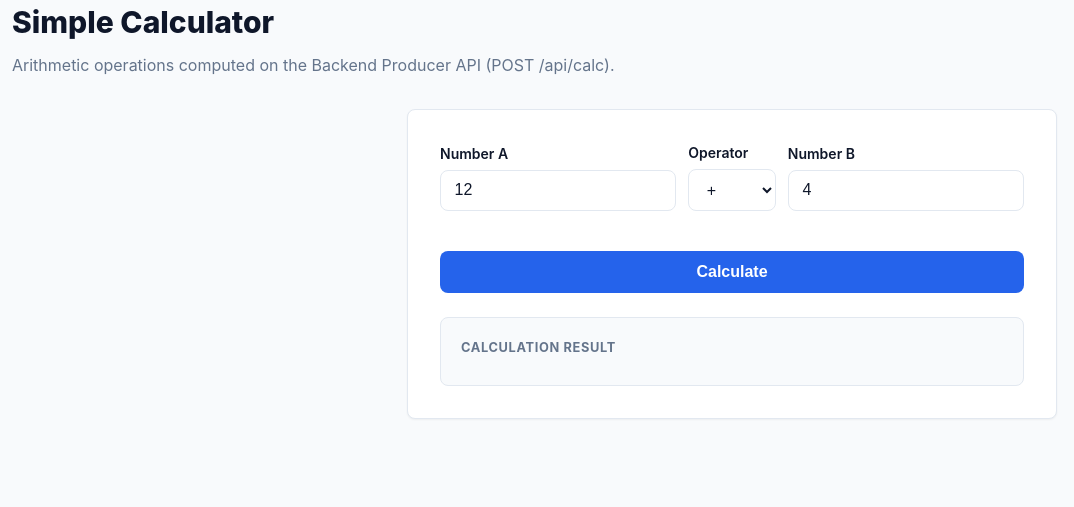
Test case: CalcPage › displays error when inputs are invalid numbers
Clear the number field with test id "calc-input-a" at (558, 190), box left=440, top=170, right=676, bottom=211
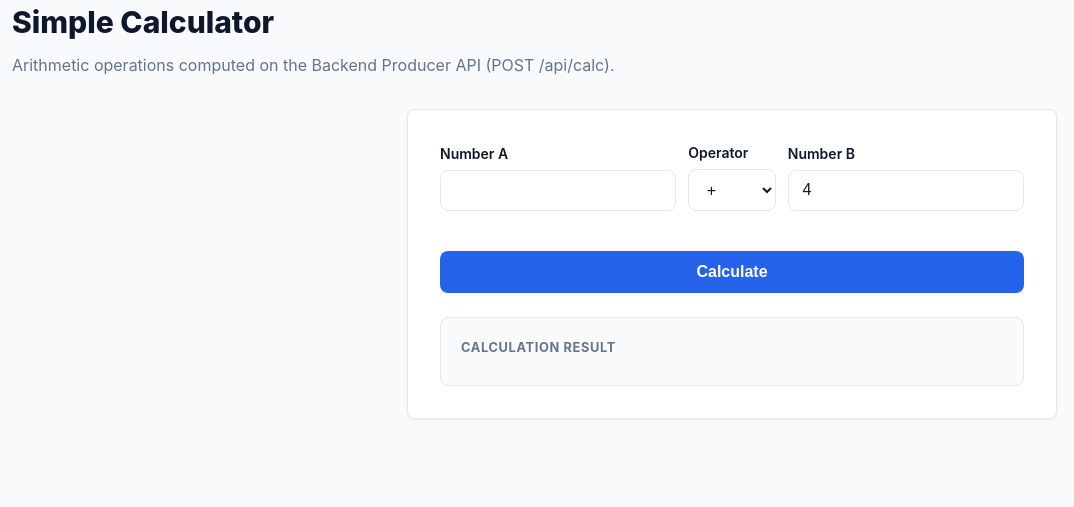
Click the button with test id "btn-calc-submit" at (732, 272), box left=440, top=251, right=1024, bottom=293
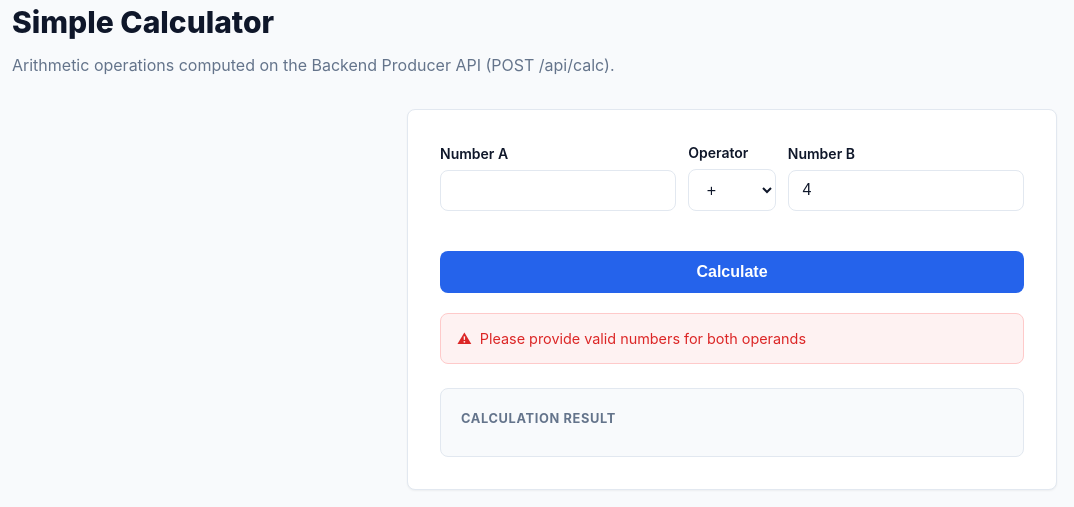
Expected: the message shows "Please provide valid numbers for both operands", left=480, top=330, right=806, bottom=347
